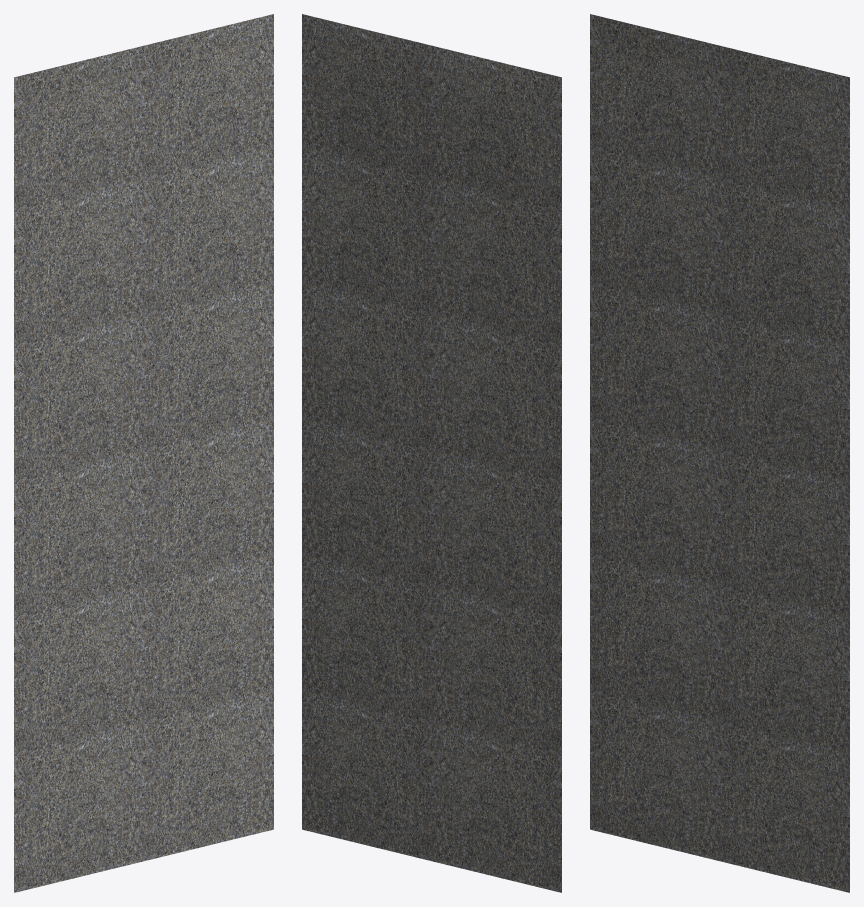
The model's file is rocks.obj.
3 views of the same model, side by side, from view 1: azimuth 30°, elevation 25°; view 2: azimuth 150°, elevation 25°; view 3: azimuth 330°, elevation 25° (orthographic).
Visible parts, largest first — view 1: rocks; view 2: rocks; view 3: rocks.
Boxes of the visible parts, left/top/right/bottom form: rocks: left=14, top=14, right=273, bottom=892; rocks: left=302, top=14, right=561, bottom=892; rocks: left=590, top=14, right=849, bottom=892.
Bounding box in the file's own units: 4 × 12 × 0.0413.
Materials: 1 (1 with a texture image).
